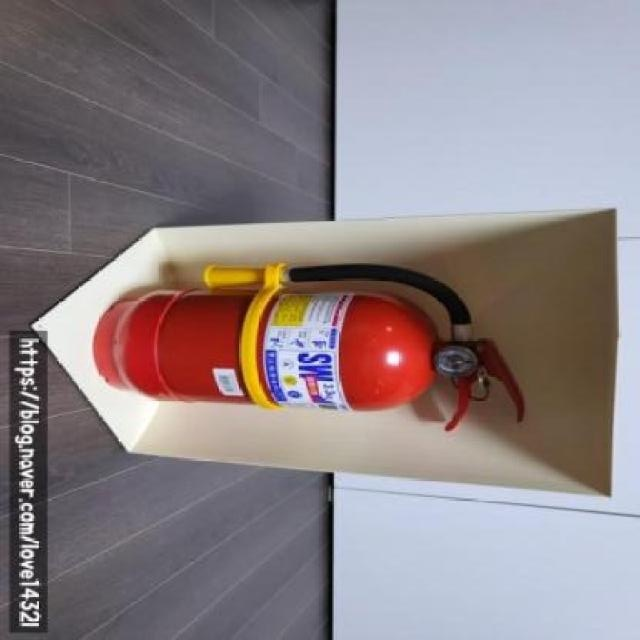fire extinguisher: (92, 264, 526, 433)
